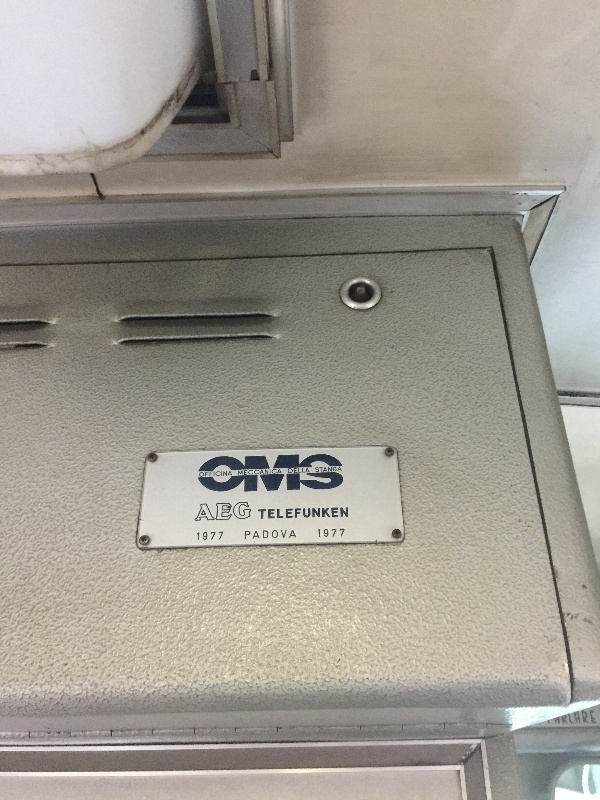text: (209, 452, 224, 495), (225, 452, 240, 495), (241, 452, 256, 495), (257, 452, 272, 495), (273, 452, 288, 495), (289, 452, 304, 495), (305, 452, 320, 495), (321, 452, 336, 495), (198, 452, 208, 495), (209, 501, 224, 522), (225, 501, 240, 522), (337, 452, 344, 495), (561, 709, 576, 726), (577, 709, 592, 726), (241, 501, 253, 522), (548, 709, 560, 726), (273, 507, 288, 520), (289, 507, 304, 520), (305, 507, 320, 520), (321, 507, 336, 520), (258, 507, 272, 520), (337, 507, 350, 520), (257, 530, 272, 540), (273, 530, 288, 540), (201, 501, 208, 522), (209, 532, 225, 541), (321, 529, 336, 538), (245, 530, 256, 540), (209, 471, 224, 478), (241, 469, 256, 476), (257, 469, 272, 476), (197, 532, 208, 541), (289, 468, 304, 474), (321, 467, 336, 473), (593, 709, 598, 726), (337, 529, 346, 538), (289, 530, 297, 540), (273, 469, 283, 476), (200, 471, 208, 478), (225, 471, 233, 478), (305, 468, 311, 474), (337, 467, 343, 473), (317, 529, 320, 538), (316, 467, 320, 473), (238, 469, 240, 476)
